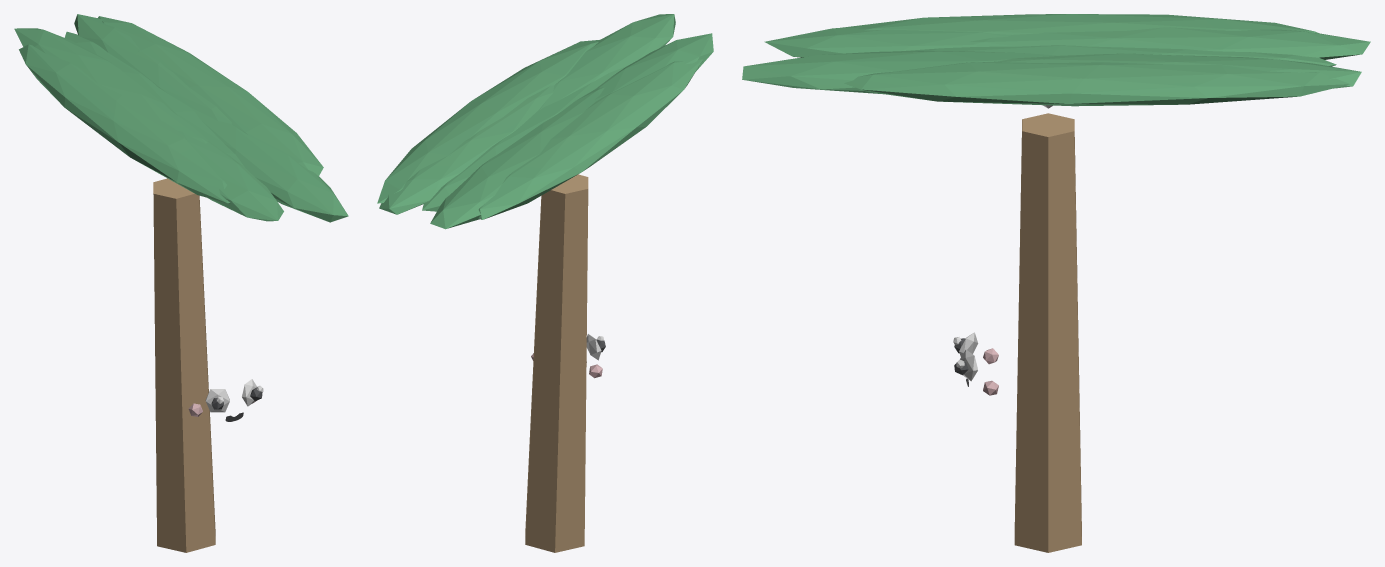
Rendered from chamaedorea-seifrizii.glb.
3 renders of one model, left to right at view 1: azimuth 30°, elevation 25°; view 2: azimuth 150°, elevation 25°; view 3: azimuth 270°, elevation 25°, orthographic. The views are drawn at different scales.
Parts seen in each view (by area): view 1: trunk, frond3, frond0, frond1, frond4, frond6, frond2, frond5; view 2: trunk, frond3, frond0, frond4, frond6, frond1, frond2, frond5; view 3: trunk, frond0, frond4, frond3, frond1, frond2, frond6, frond5.
Boxes of the visible parts, x1,y1,x2,y2 form: trunk: [153, 178, 215, 552]; frond3: [19, 44, 229, 203]; frond0: [98, 16, 323, 176]; frond1: [190, 107, 348, 222]; frond4: [14, 28, 208, 143]; frond6: [74, 14, 231, 124]; frond2: [178, 131, 283, 221]; frond5: [64, 31, 244, 167]; trunk: [525, 174, 588, 552]; frond3: [478, 58, 703, 219]; frond0: [377, 40, 599, 203]; frond4: [430, 87, 604, 229]; frond6: [379, 85, 554, 214]; frond1: [538, 14, 675, 110]; frond2: [594, 33, 713, 101]; frond5: [422, 66, 626, 211]; trunk: [1014, 113, 1081, 552]; frond0: [844, 61, 1350, 106]; frond4: [969, 27, 1370, 59]; frond3: [840, 14, 1318, 34]; frond1: [742, 51, 1062, 94]; frond2: [764, 27, 1011, 57]; frond6: [998, 53, 1361, 88]; frond5: [901, 45, 1336, 66].
Size of the model in its own units: 0.2307 by 0.6303 by 0.7283.
